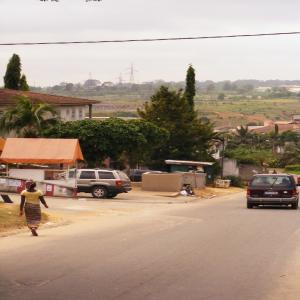Vehicle-registration-plate: (264, 192, 281, 195)
